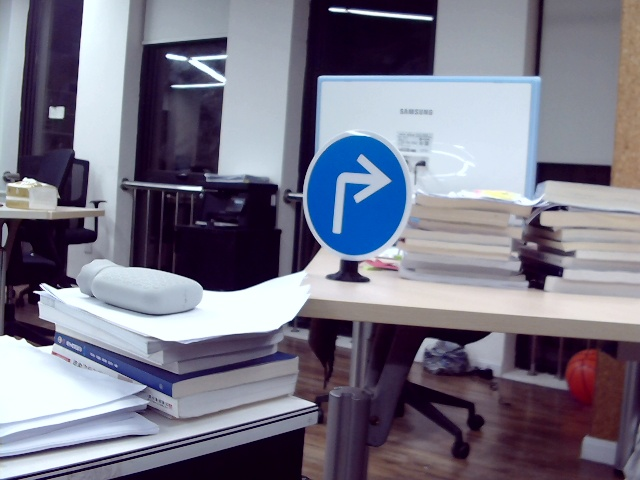turn_right: (329, 154, 386, 236)
